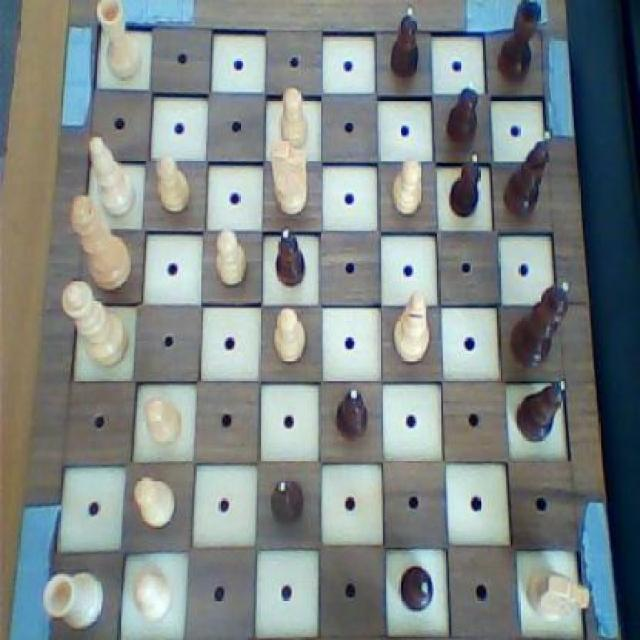bishop: (500, 126, 555, 222), (514, 376, 569, 444)
black-bishop: (506, 278, 573, 376)
black-knight: (386, 2, 426, 83), (442, 75, 484, 151), (329, 379, 372, 446), (446, 149, 485, 221), (392, 558, 436, 616), (272, 221, 308, 287), (269, 474, 310, 529)
black-queen: (492, 0, 542, 86)
black-rook: (86, 131, 140, 225), (389, 286, 437, 369)
white-bishop: (68, 191, 134, 294)
white-king: (523, 560, 595, 628), (266, 137, 313, 220)
white-knight: (131, 474, 179, 534), (129, 565, 174, 623), (152, 151, 192, 216), (386, 154, 425, 219), (275, 81, 311, 150), (142, 394, 184, 453), (270, 305, 308, 366), (214, 226, 250, 290)
white-pawn: (58, 278, 132, 372)
white-queen: (37, 566, 107, 634), (91, 0, 146, 83)
